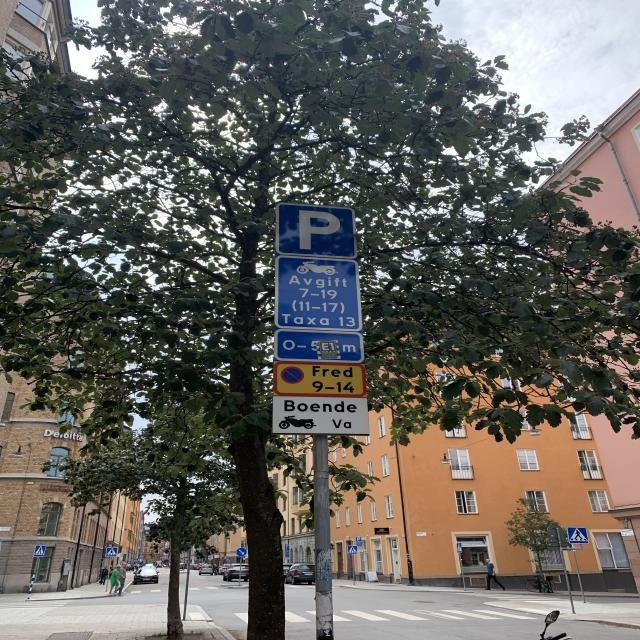P-skylt: (273, 199, 362, 260)
